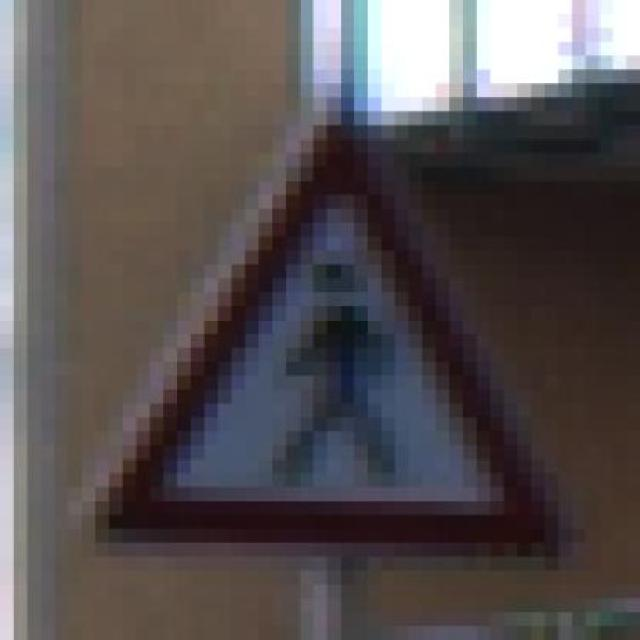Pedestrian Crossing: (82, 83, 586, 557)
